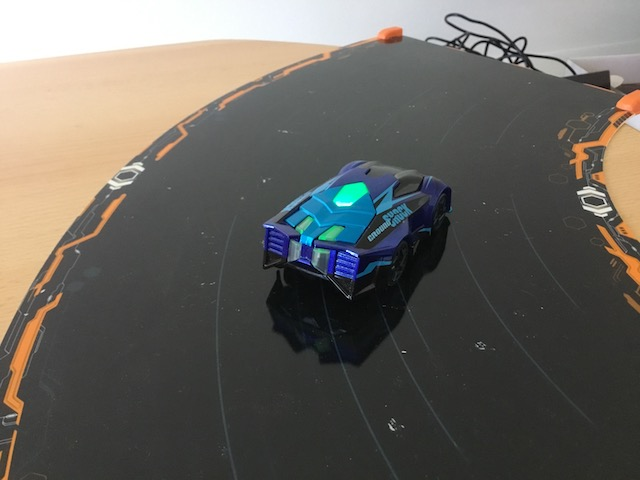car-blue: (256, 153, 459, 313)
